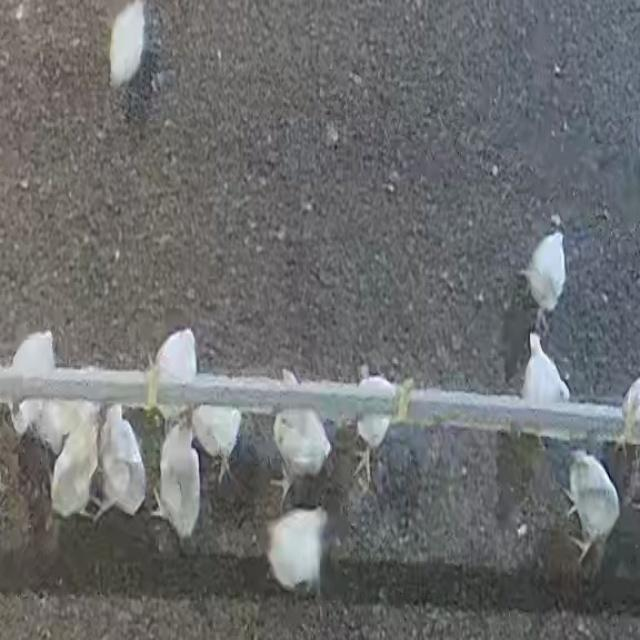chicken: (268, 366, 334, 476), (564, 448, 622, 562), (95, 402, 150, 522), (263, 504, 331, 597), (4, 330, 59, 440), (143, 327, 201, 426), (351, 371, 397, 493), (156, 418, 202, 540), (188, 400, 246, 488), (518, 229, 568, 324), (54, 419, 100, 519), (519, 328, 573, 412), (106, 0, 144, 86)
